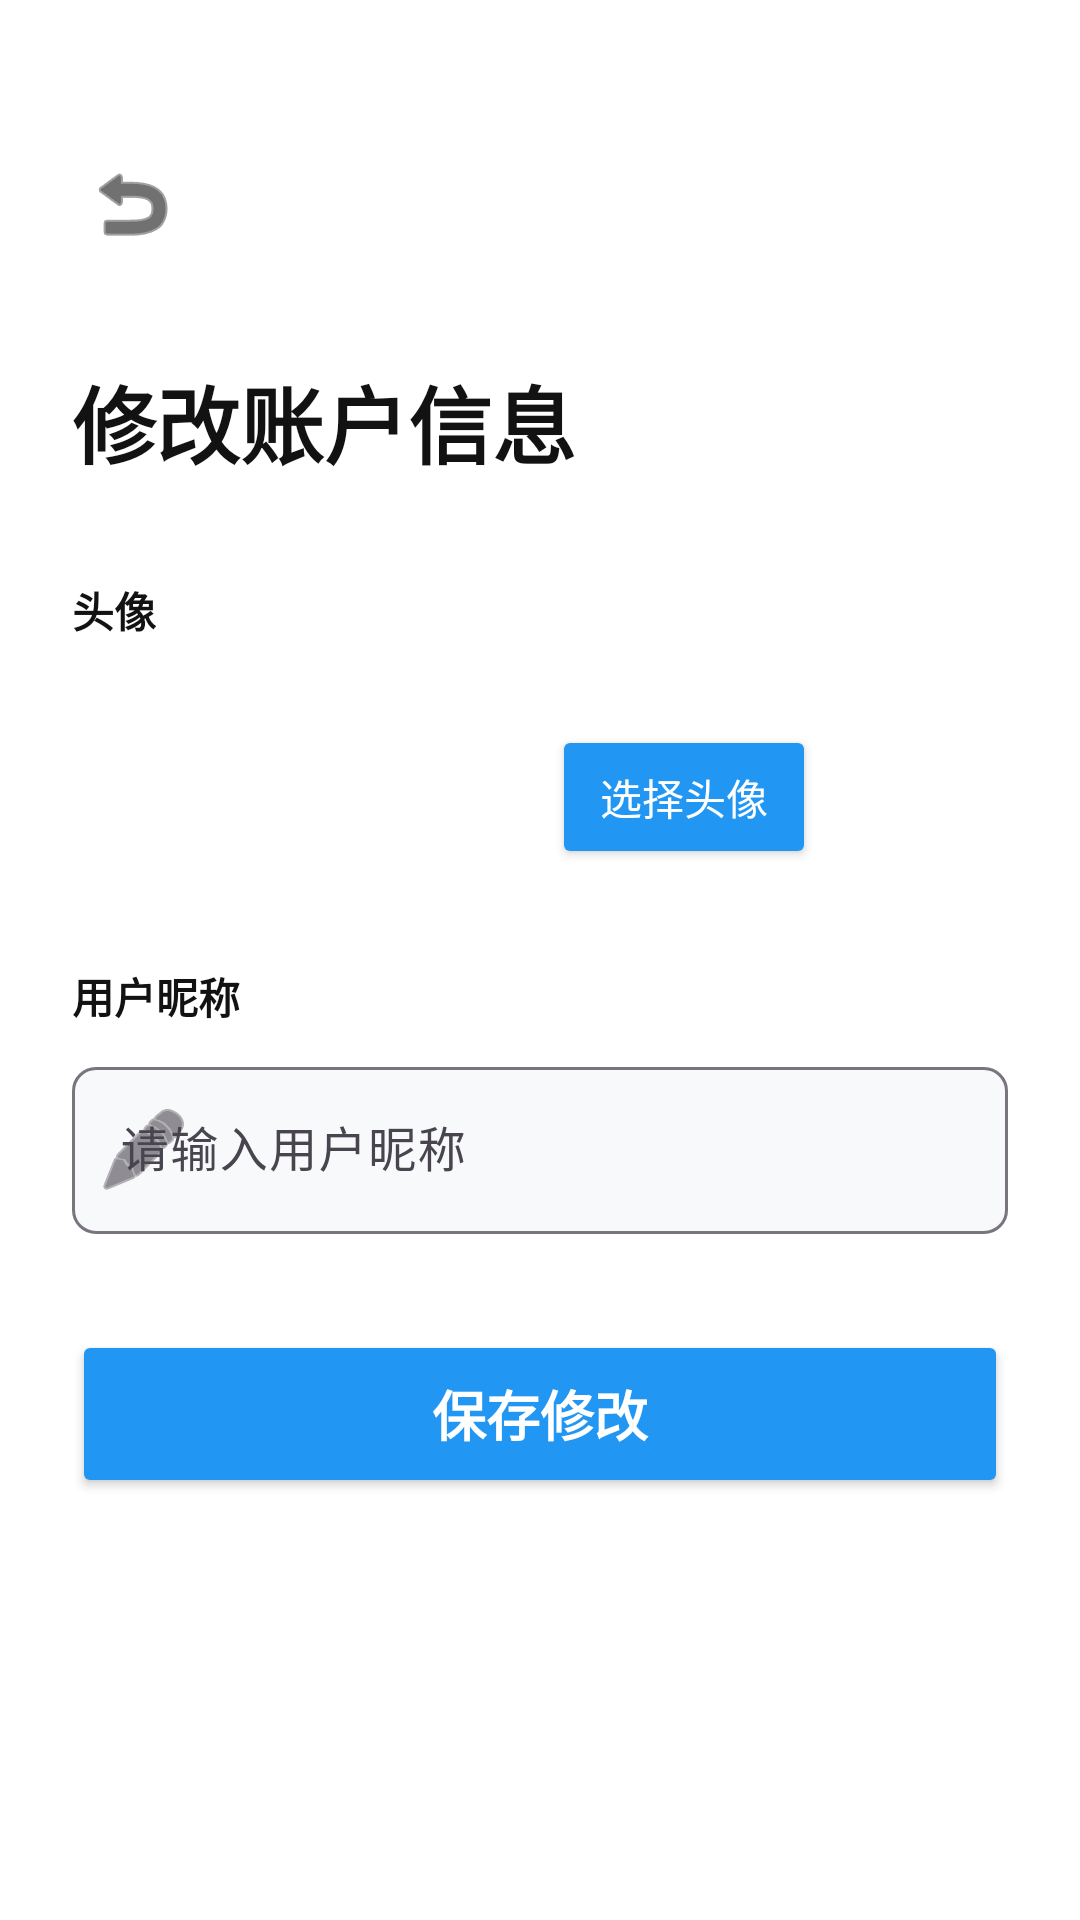

Named icons in this screenshot (1080 × 1920) and their bounding boxes, {"x1": x1, "y1": y1, "x2": x2, "y2": y2}:
revert: {"x1": 99, "y1": 173, "x2": 168, "y2": 236}
